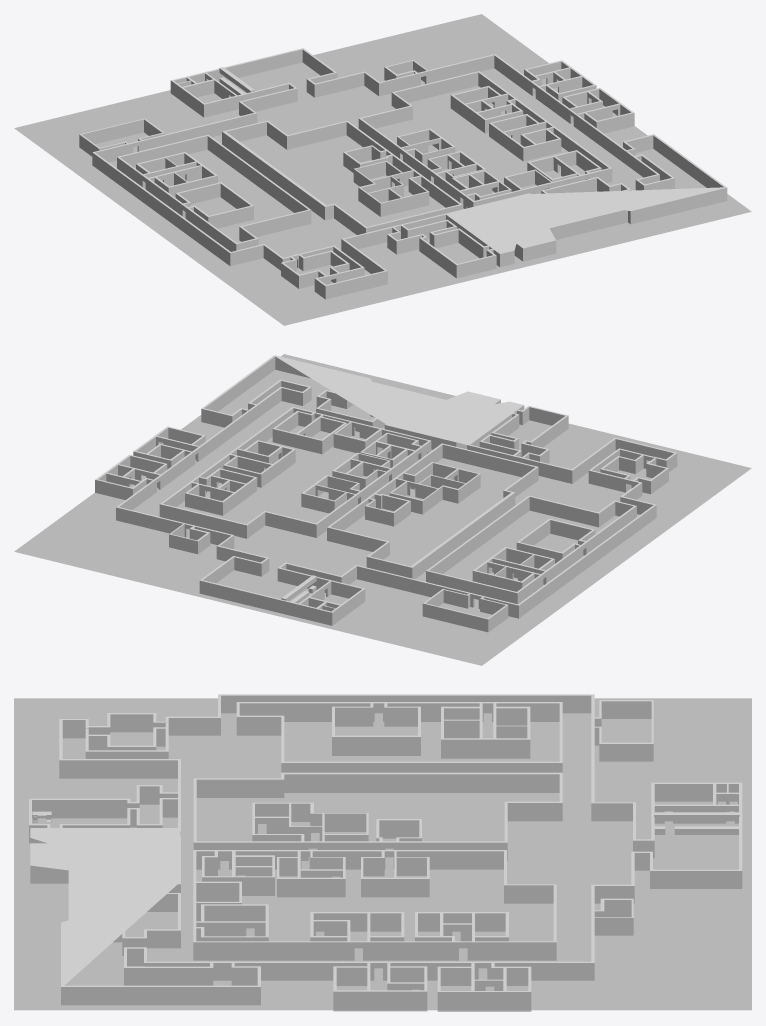
The model's file is budynek_pokoje.fbx.
3 views of the same model, one above another, from view 1: azimuth 30°, elevation 25°; view 2: azimuth 150°, elevation 25°; view 3: azimuth 270°, elevation 25° (orthographic). The views are drawn at different scales.
Parts seen in each view (by area): view 1: Plane, Cube.023, Cube.007, Cube.019, Cube.003, Cube.002, Cube.016, Cube.024, Cube.033, Cube.001, Cube.026, Cube.025 (+17 smaller); view 2: Plane, Cube.023, Cube.007, Cube.019, Cube.003, Cube.002, Cube.016, Cube.025, Cube.033, Cube.030, Cube.001, Cube.024 (+17 smaller); view 3: Plane, Cube.007, Cube.023, Cube.003, Cube.019, Cube.002, Cube.033, Cube.026, Cube.034, Cube.016, Cube.018, Cube (+19 smaller).
Part boxes in pixels (x1,y1,x2,y2): Plane: (14,14,751,325); Cube.023: (92,48,674,284); Cube.007: (314,134,727,299); Cube.019: (117,134,311,251); Cube.003: (222,120,462,234); Cube.002: (391,71,612,206); Cube.016: (353,160,429,216); Cube.024: (489,114,561,161); Cube.033: (136,152,217,197); Cube.001: (286,120,460,207); Cube.026: (562,88,634,133); Cube.025: (450,86,523,133); Plane: (14,354,751,665); Cube.023: (116,379,656,625); Cube.007: (201,355,677,483); Cube.019: (426,495,636,604); Cube.003: (366,443,538,578); Cube.002: (159,407,428,538); Cube.016: (389,462,480,514); Cube.025: (185,468,257,515); Cube.033: (472,547,554,591); Cube.030: (422,589,508,632); Cube.001: (327,444,442,555); Cube.024: (223,440,295,487); Plane: (14,698,751,1010); Cube.007: (30,719,260,1005); Cube.023: (85,694,742,985); Cube.003: (193,772,562,849); Cube.019: (236,702,562,772); Cube.002: (193,851,556,960); Cube.033: (441,703,530,758); Cube.026: (333,962,427,1011); Cube.034: (437,963,531,1011); Cube.016: (252,802,368,841); Cube.018: (332,703,420,755); Cube: (193,850,503,869).
Bounding box in the file's own units: 47995 × 3935 × 47995.
